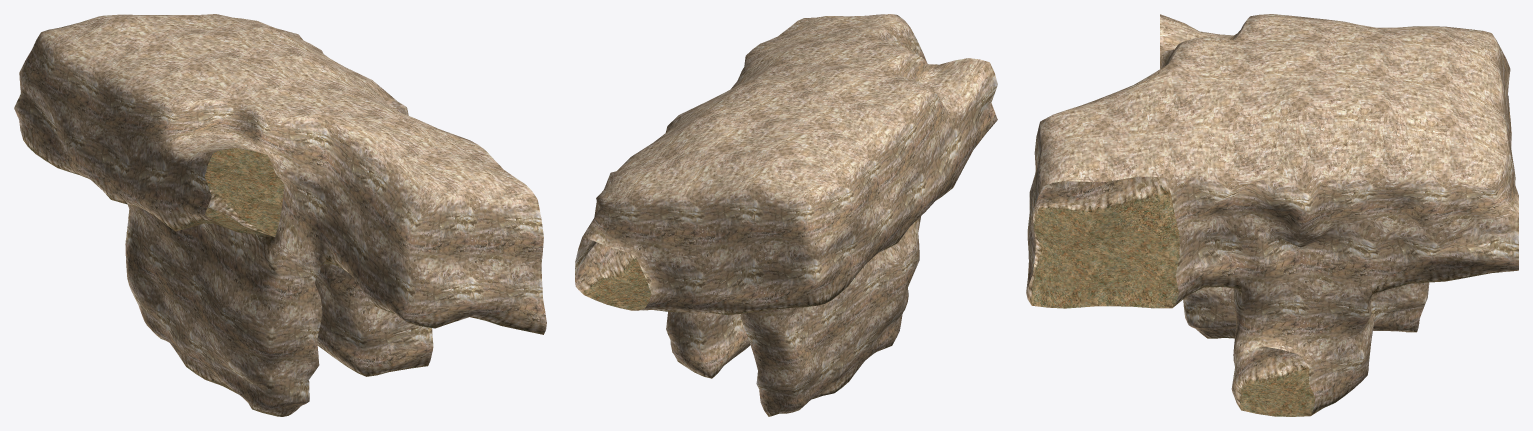
File: thm_all_cave_flatland_s02_r2_mesh_r2.fbx
The picture shows the model from 3 angles, left to right: view 1: azimuth 30°, elevation 25°; view 2: azimuth 150°, elevation 25°; view 3: azimuth 270°, elevation 25°; orthographic projection. The views are drawn at different scales.
Visible parts, largest first — view 1: mesh_node; view 2: mesh_node; view 3: mesh_node.
Part boxes in pixels (box(x1,y1,x2,y2)): mesh_node: box(14, 14, 546, 416); mesh_node: box(575, 14, 997, 416); mesh_node: box(1026, 14, 1518, 416).
Size of the model in its own units: 43.2 by 47.58 by 71.62.
